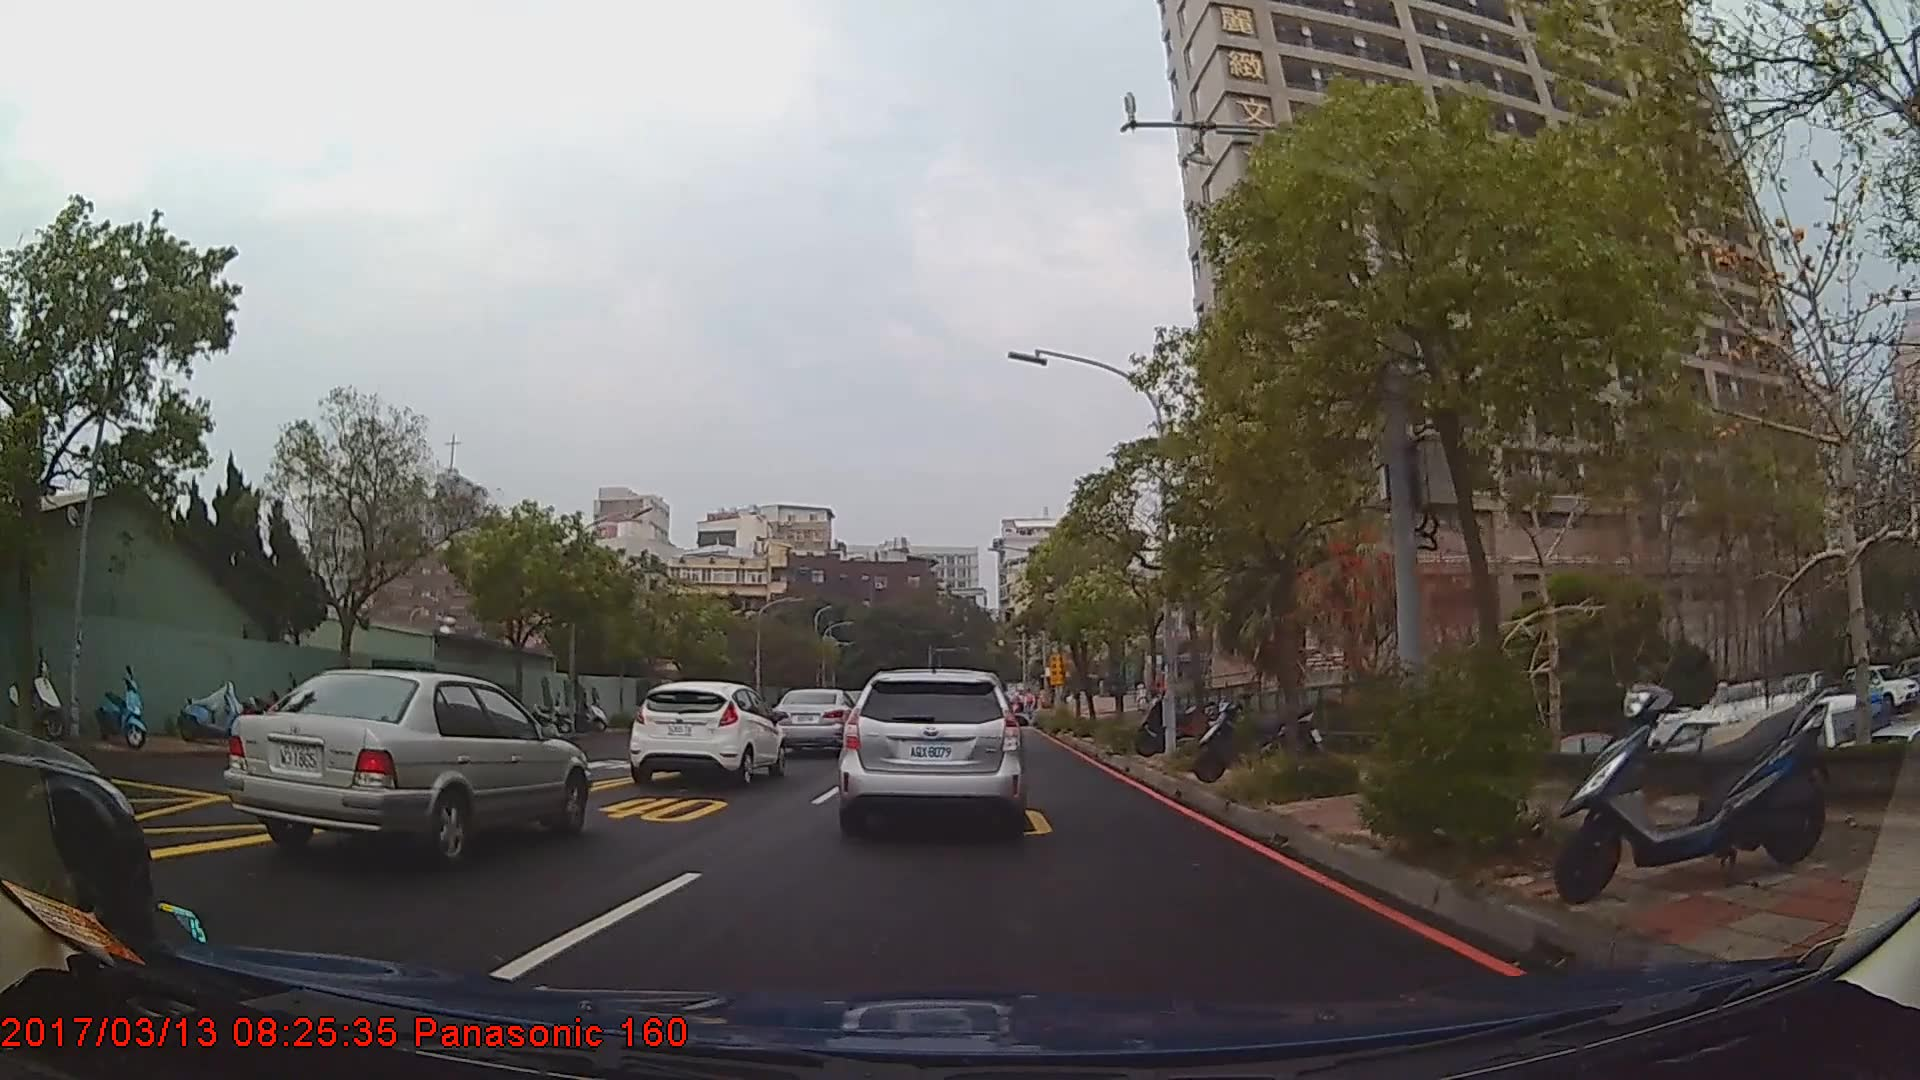vehicle: (218, 669, 592, 864), (837, 667, 1025, 827), (626, 679, 786, 783), (769, 688, 858, 756)
